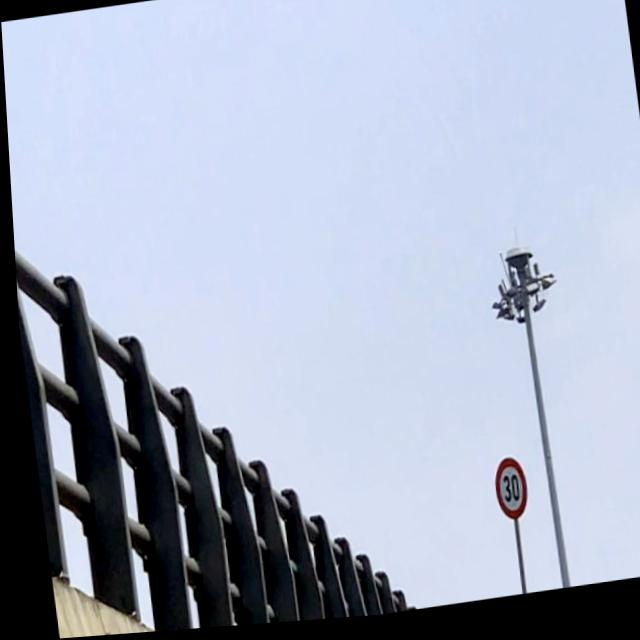Toc do toi da cho phep: (483, 459, 526, 531)
